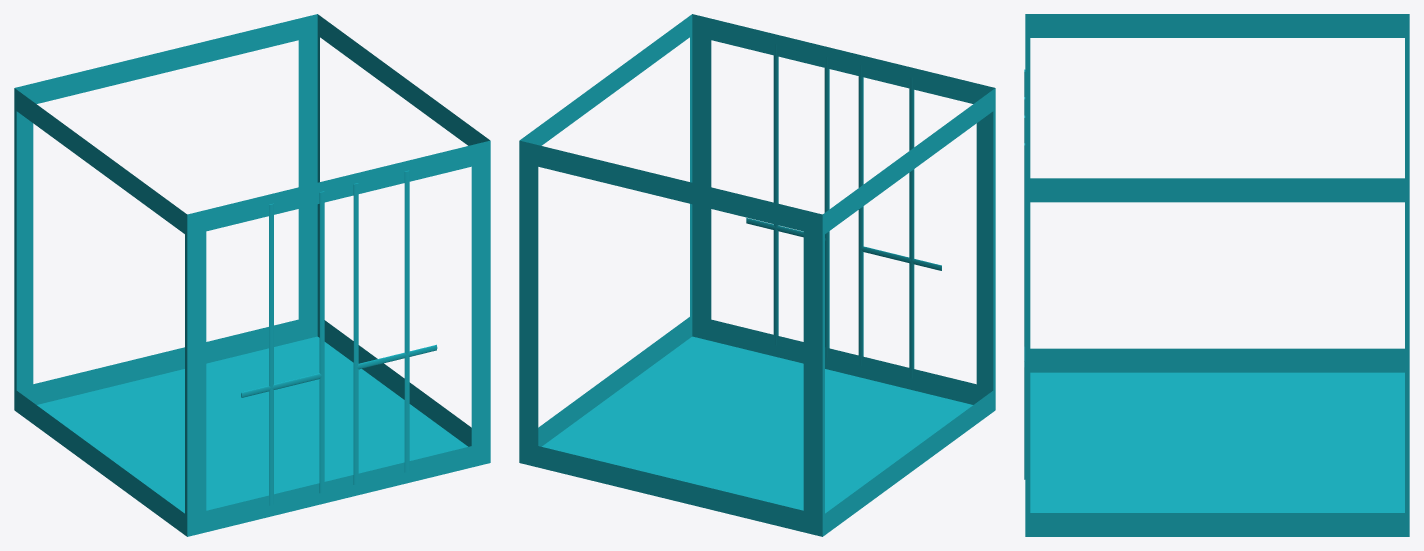
The picture shows the model from 3 angles, left to right: view 1: azimuth 30°, elevation 25°; view 2: azimuth 150°, elevation 25°; view 3: azimuth 270°, elevation 25°; orthographic projection. The views are drawn at different scales.
Visible parts, largest first — view 1: group_0 (×5); view 2: group_0 (×5); view 3: group_0 (×2).
Part boxes in pixels (x1=…): group_0 (×5): x1=14, y1=14, x2=490, y2=536; group_0 (×5): x1=519, y1=14, x2=995, y2=536; group_0 (×2): x1=1024, y1=14, x2=1409, y2=536.
Size of the model in its own units: 38.74 by 38.38 by 39.37.
